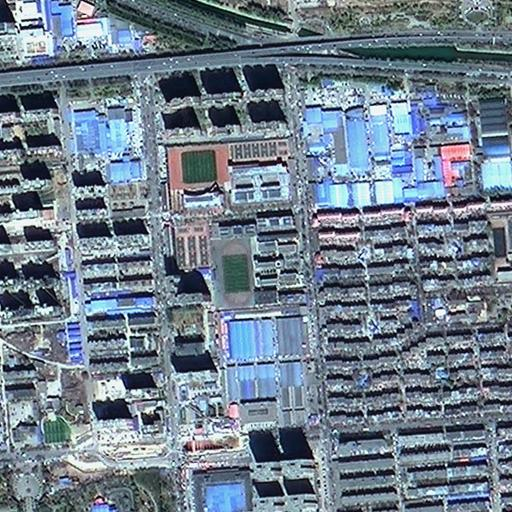school: (173, 214, 309, 308), (165, 136, 297, 207)
